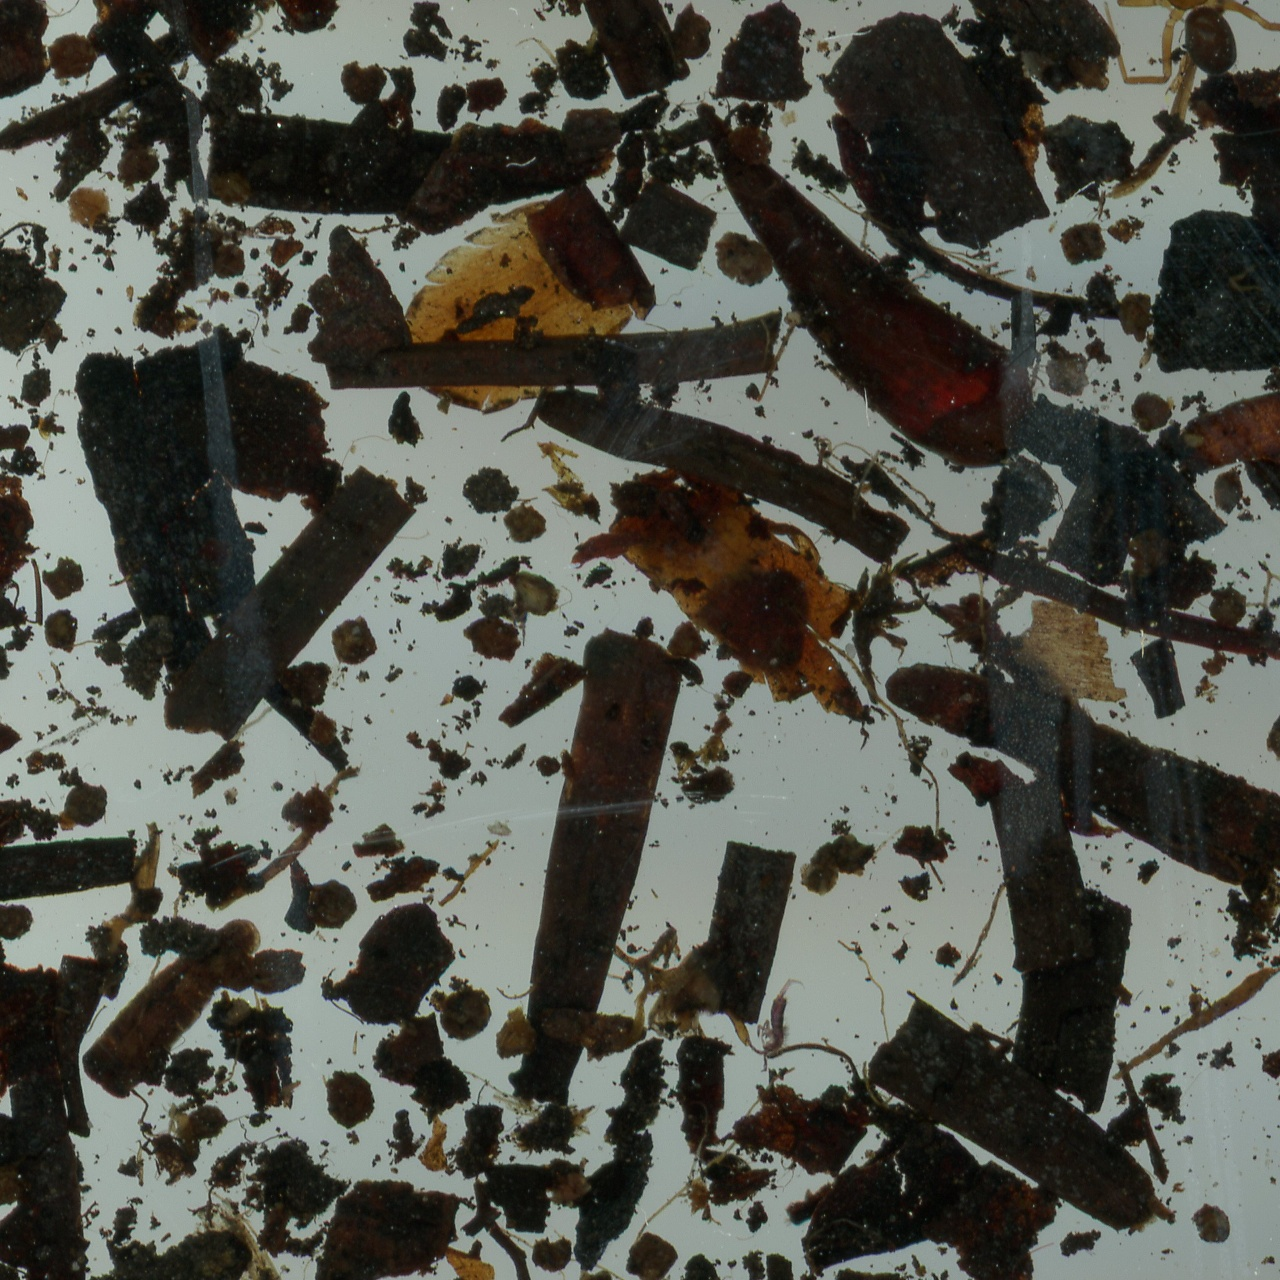arthropod: (1080, 0, 1280, 86), (755, 976, 805, 1061)
